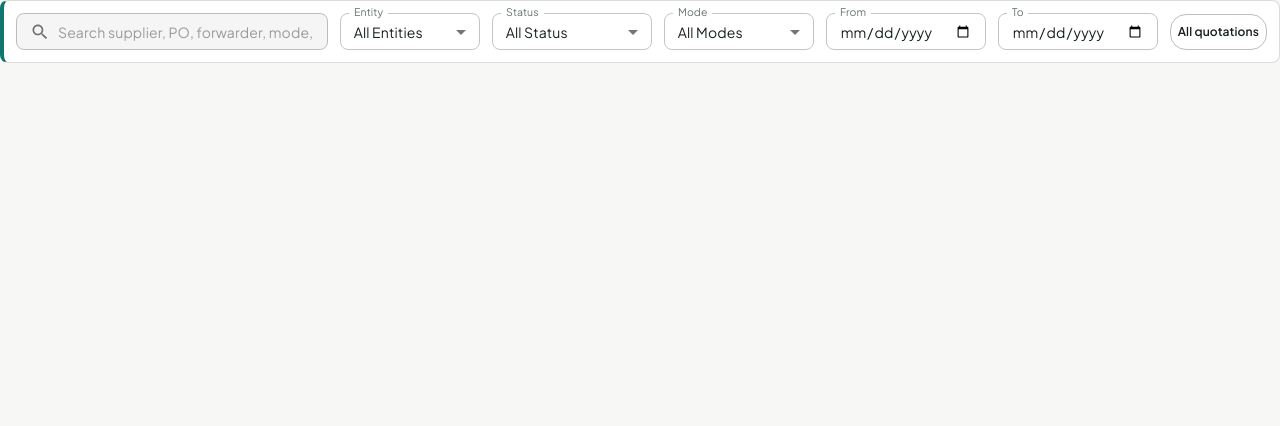
Test case: SearchFilter › renders status dropdown with options
Click the dropdown labelled "All Status" at (537, 32), box left=506, top=22, right=568, bottom=40
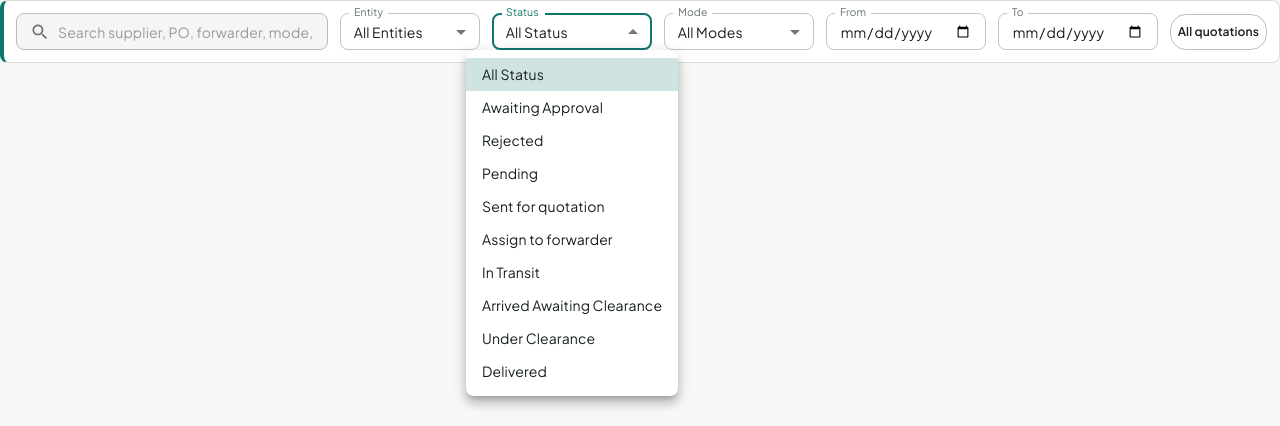
Result: the option "Sent for quotation" is shown at left=482, top=197, right=605, bottom=215
Result: the option "Delivered" is shown at left=482, top=362, right=547, bottom=380
